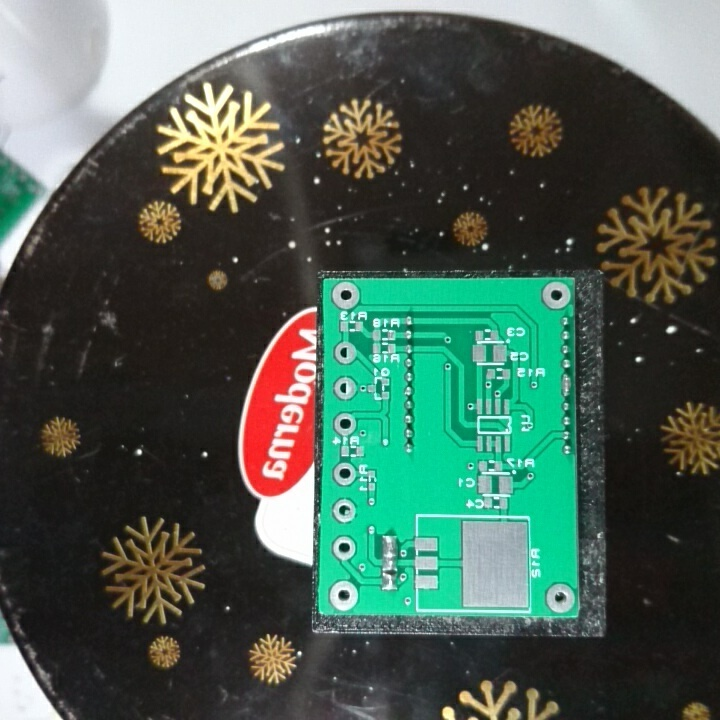F: (543, 580, 577, 615), (328, 578, 360, 612), (330, 280, 362, 312), (541, 280, 572, 312), (330, 534, 359, 562), (331, 496, 358, 526), (331, 374, 359, 402), (331, 410, 358, 438), (331, 461, 357, 487), (333, 340, 358, 365)
P: (379, 533, 400, 573), (559, 372, 573, 398)
